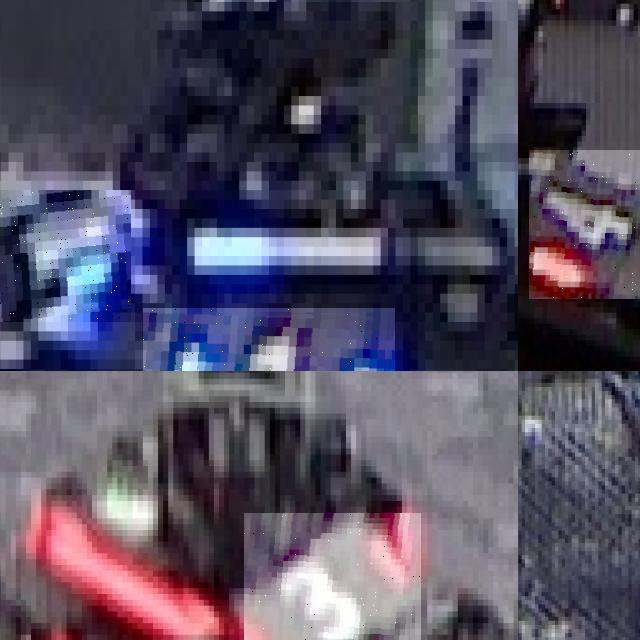B1: (0, 190, 131, 322), (142, 308, 395, 371)
R3: (244, 512, 422, 640)
R4: (529, 150, 640, 299)
